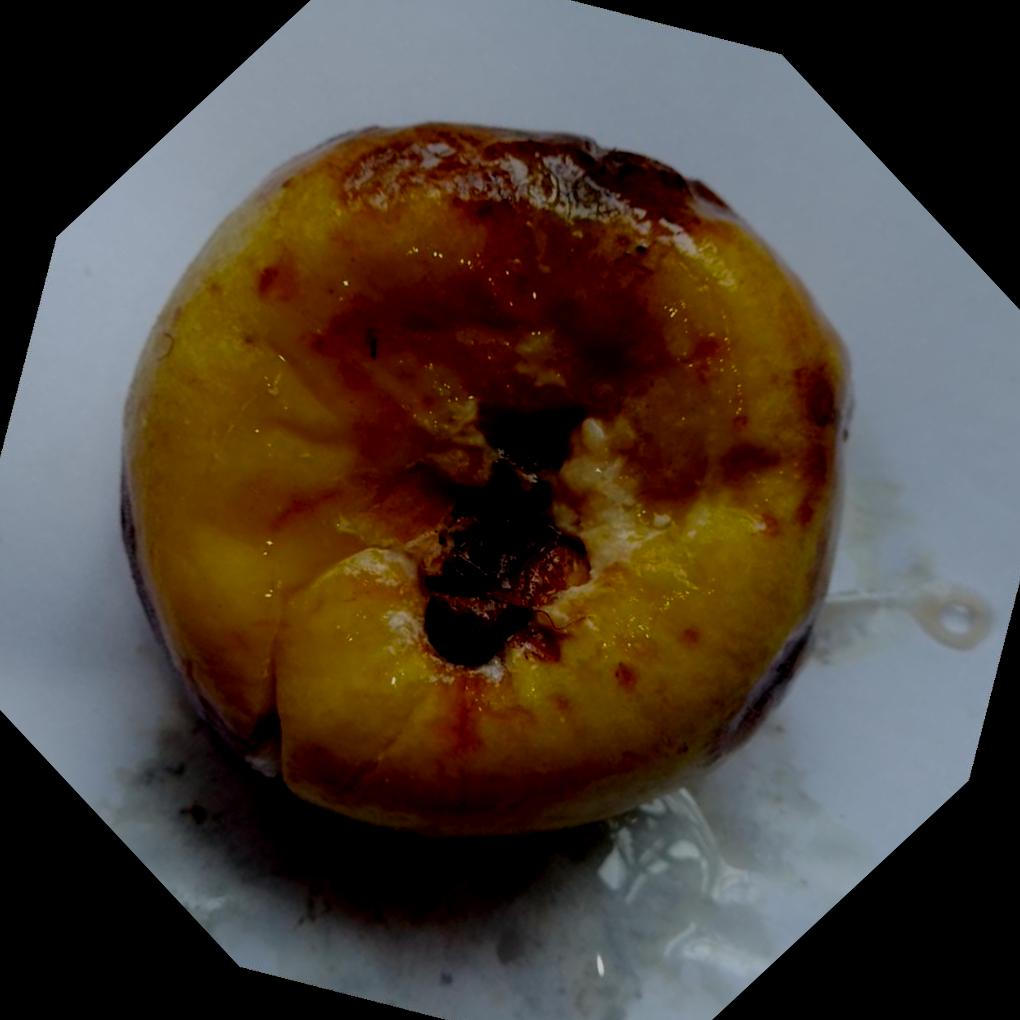FreshOrange: (116, 120, 853, 843)
